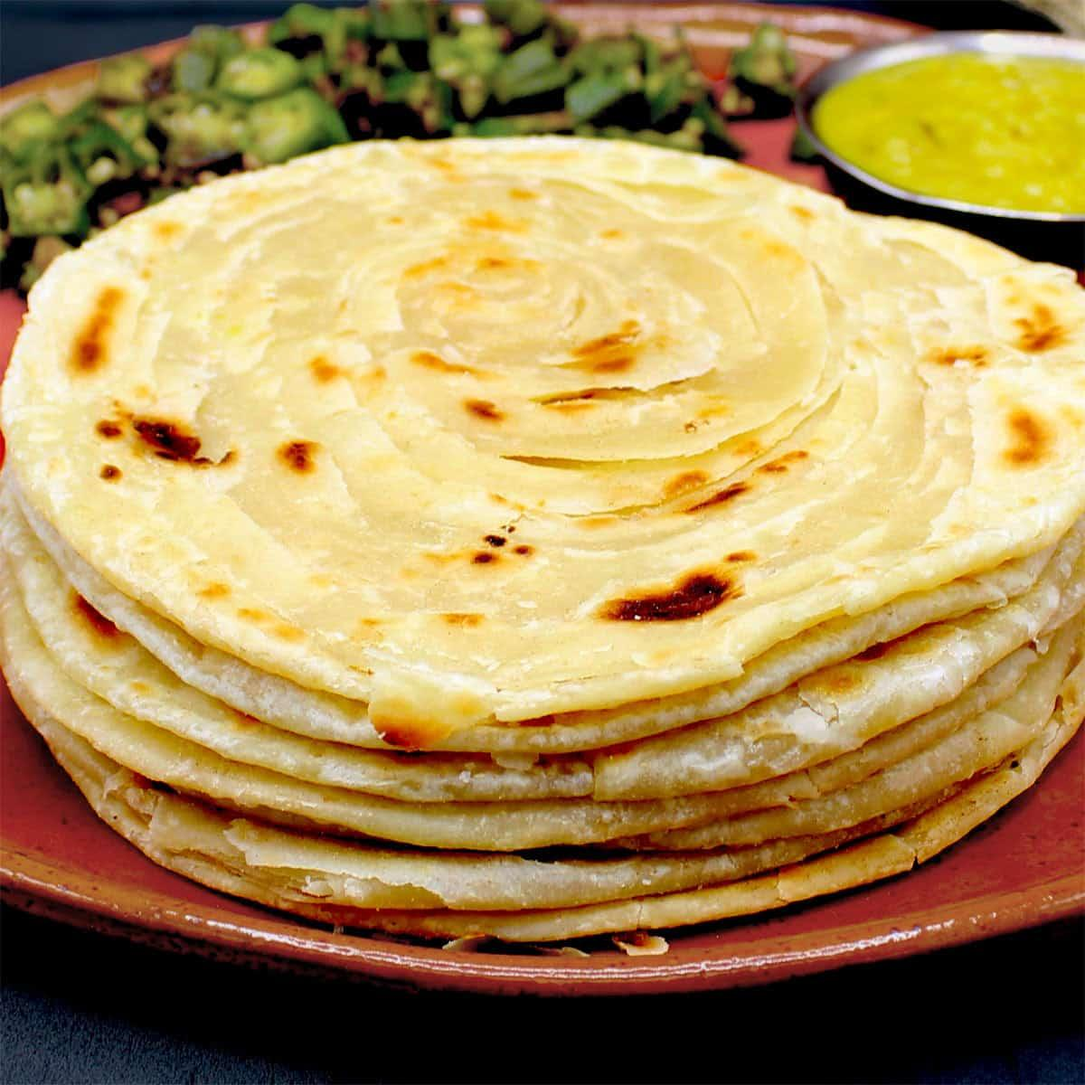bhindi: (2, 24, 796, 133)
daal: (823, 24, 1085, 192)
paratha: (0, 198, 1085, 945)
